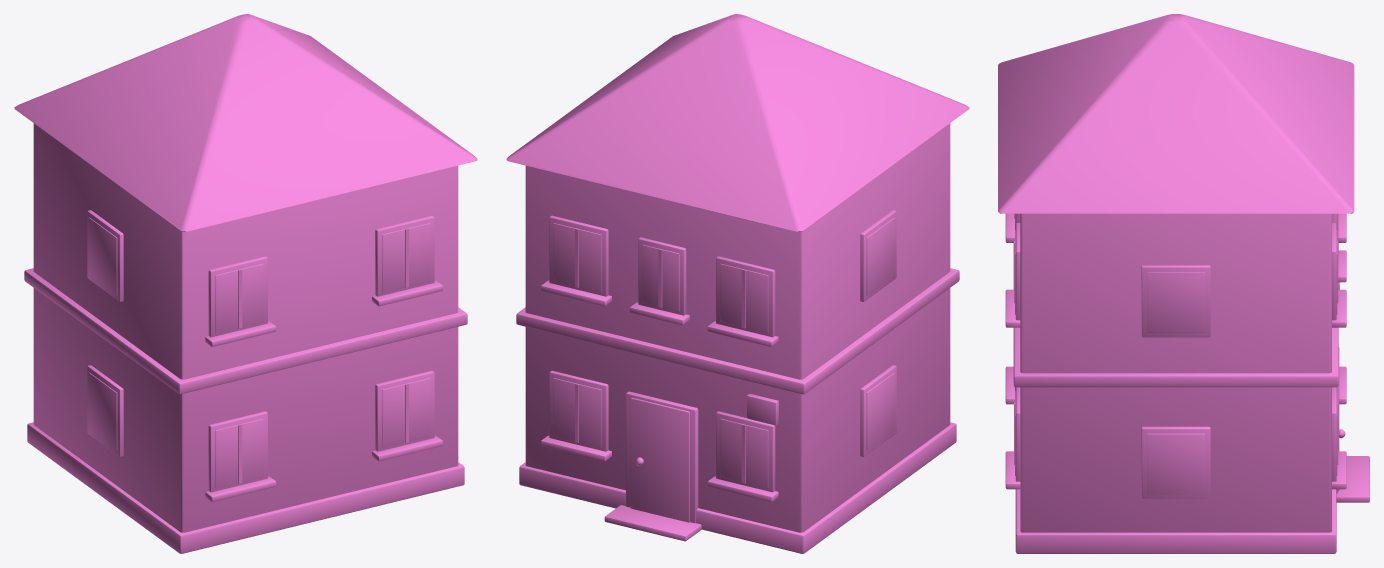
Rendered from House_B.fbx.
3 views of the same model, side by side, from view 1: azimuth 30°, elevation 25°; view 2: azimuth 150°, elevation 25°; view 3: azimuth 270°, elevation 25° (orthographic). The views are drawn at different scales.
Visible parts, largest first — view 1: Paint, Body; view 2: Body, Paint; view 3: Body, Paint.
Part boxes in pixels (x1,y1,x2,y2): Paint: (33,123,458,532); Body: (14,14,477,553); Body: (506,14,969,553); Paint: (525,123,950,532); Body: (998,14,1369,553); Paint: (1020,213,1331,532).
Size of the model in its own units: 16 by 23.15 by 16.7.
Materials: 1 (1 with a texture image).
